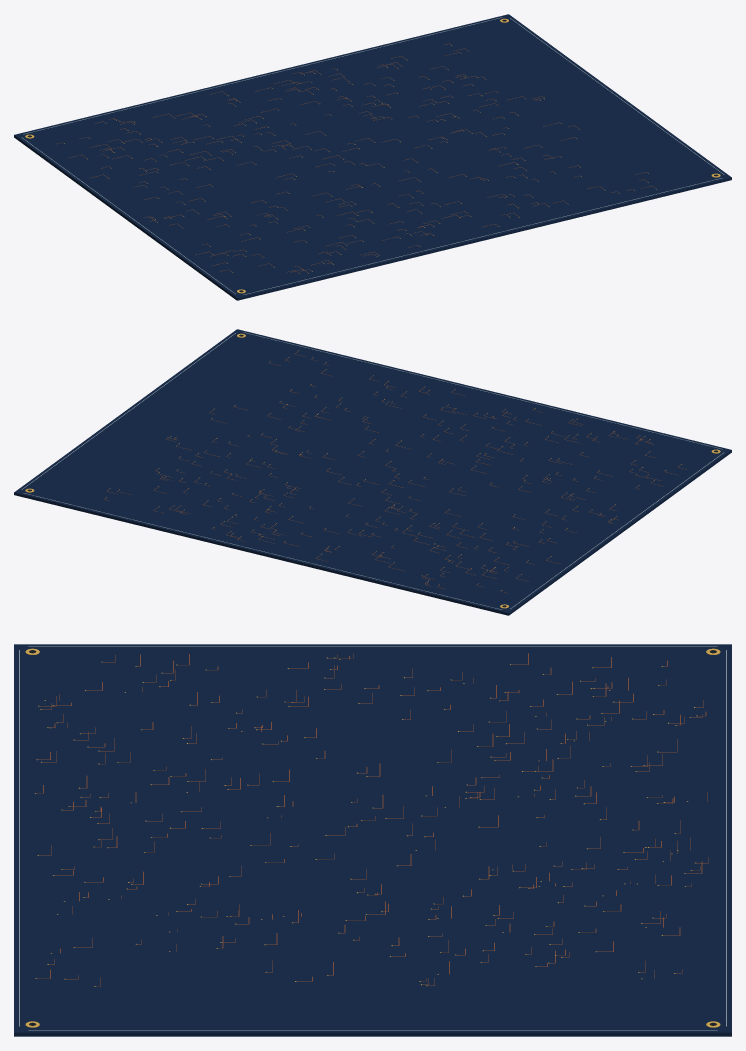
Rendered from 361_L126_PCB_Main.obj.
3 renders of one model, top to bottom at view 1: azimuth 30°, elevation 25°; view 2: azimuth 150°, elevation 25°; view 3: azimuth 270°, elevation 25°, orthographic. The views are drawn at different scales.
Parts seen in each view (by area): view 1: 361_L126_PCB_Main__PSMAT__pcb, 361_L126_PCB_Main__PSMAT__copper, 361_L126_PCB_Main__PSMAT__silkscreen; view 2: 361_L126_PCB_Main__PSMAT__pcb, 361_L126_PCB_Main__PSMAT__copper, 361_L126_PCB_Main__PSMAT__silkscreen; view 3: 361_L126_PCB_Main__PSMAT__pcb, 361_L126_PCB_Main__PSMAT__copper, 361_L126_PCB_Main__PSMAT__silkscreen, 361_L126_PCB_Main__PSMAT__gold.
Part boxes in pixels (x1,y1,x2,y2): 361_L126_PCB_Main__PSMAT__pcb: (14, 14, 731, 300); 361_L126_PCB_Main__PSMAT__copper: (56, 43, 655, 272); 361_L126_PCB_Main__PSMAT__silkscreen: (21, 17, 724, 294); 361_L126_PCB_Main__PSMAT__pcb: (14, 329, 731, 615); 361_L126_PCB_Main__PSMAT__copper: (104, 351, 686, 593); 361_L126_PCB_Main__PSMAT__silkscreen: (21, 332, 724, 609); 361_L126_PCB_Main__PSMAT__pcb: (14, 644, 731, 1036); 361_L126_PCB_Main__PSMAT__copper: (36, 653, 708, 986); 361_L126_PCB_Main__PSMAT__silkscreen: (19, 646, 726, 1030); 361_L126_PCB_Main__PSMAT__gold: (25, 648, 720, 1027).
Size of the model in its own units: 0.64 by 0.00356 by 0.5.
5 materials, 5 textured.
